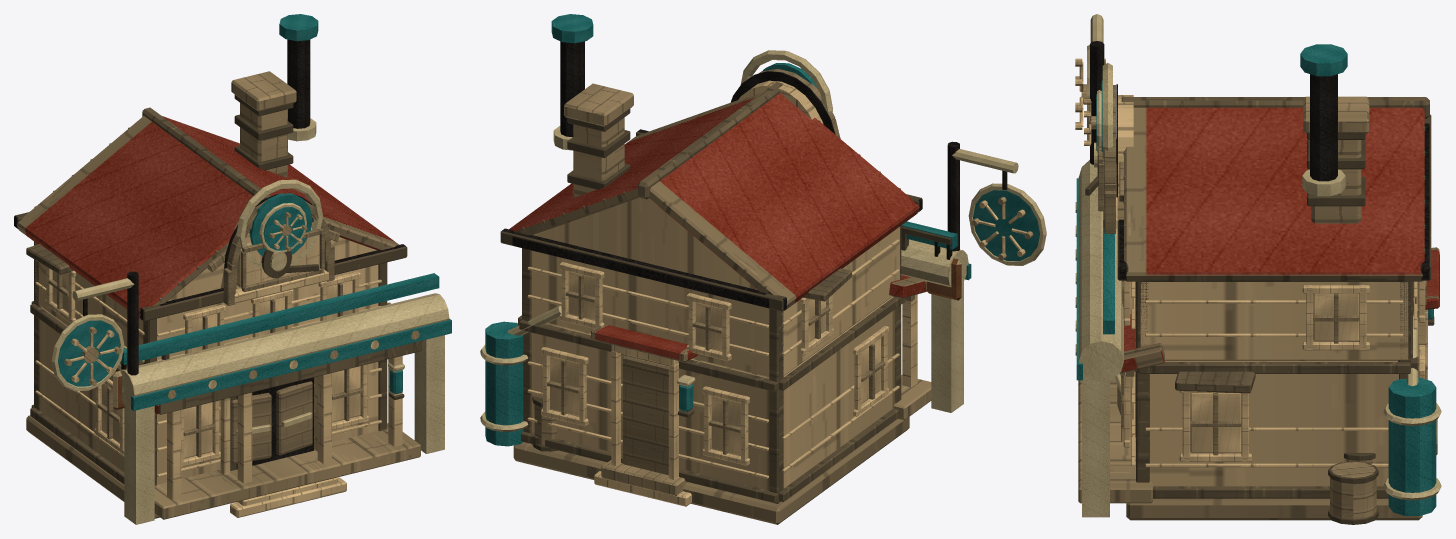
Rendered from tavern.e6.glb.
3 renders of one model, left to right at view 1: azimuth 30°, elevation 25°; view 2: azimuth 150°, elevation 25°; view 3: azimuth 270°, elevation 25°, orthographic. The views are drawn at different scales.
Visible parts, largest first — view 1: TownTavernE6AtomicDiner; view 2: TownTavernE6AtomicDiner; view 3: TownTavernE6AtomicDiner.
Part boxes in pixels (bbox=[...]): TownTavernE6AtomicDiner: bbox=[14, 14, 451, 524]; TownTavernE6AtomicDiner: bbox=[480, 14, 1046, 524]; TownTavernE6AtomicDiner: bbox=[1075, 14, 1441, 524].
Size of the model in its own units: 5.13 by 4.68 by 3.39.
Materials: 1 (1 with a texture image).
